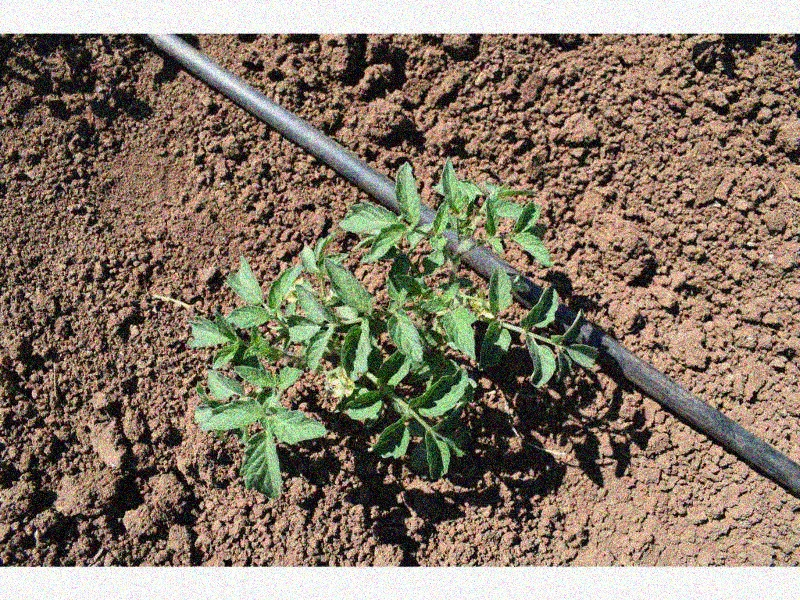tomato: (190, 163, 602, 498)
